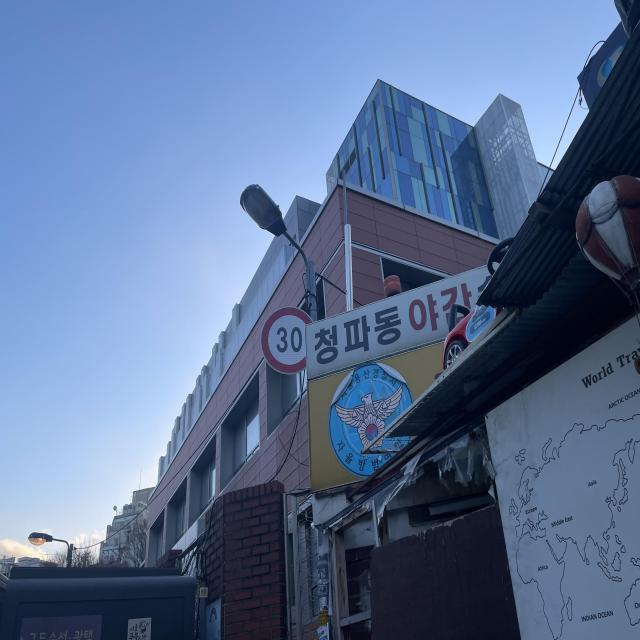Ograniczenie predkosci do 30: (262, 308, 311, 371)
